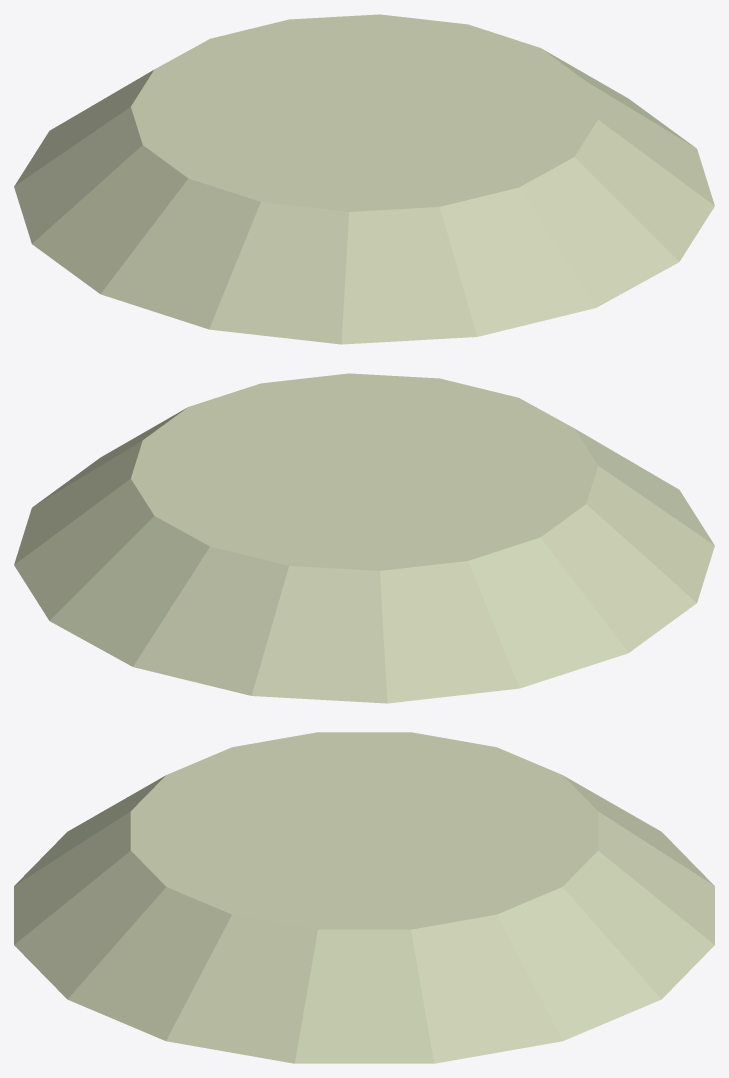
The model's file is dalim_adapter_s0p5_s0_1_collider.obj.
3 renders of one model, top to bottom at view 1: azimuth 30°, elevation 25°; view 2: azimuth 150°, elevation 25°; view 3: azimuth 270°, elevation 25°, orthographic.
Visible parts, largest first — view 1: dalim_adapter_s0p5_s0_1_collider; view 2: dalim_adapter_s0p5_s0_1_collider; view 3: dalim_adapter_s0p5_s0_1_collider.
Part boxes in pixels (x1,y1,x2,y2): dalim_adapter_s0p5_s0_1_collider: [14, 14, 714, 344]; dalim_adapter_s0p5_s0_1_collider: [14, 373, 714, 703]; dalim_adapter_s0p5_s0_1_collider: [14, 732, 714, 1063].
Bounding box in the file's own units: 0.9375 × 0.125 × 0.9375.
